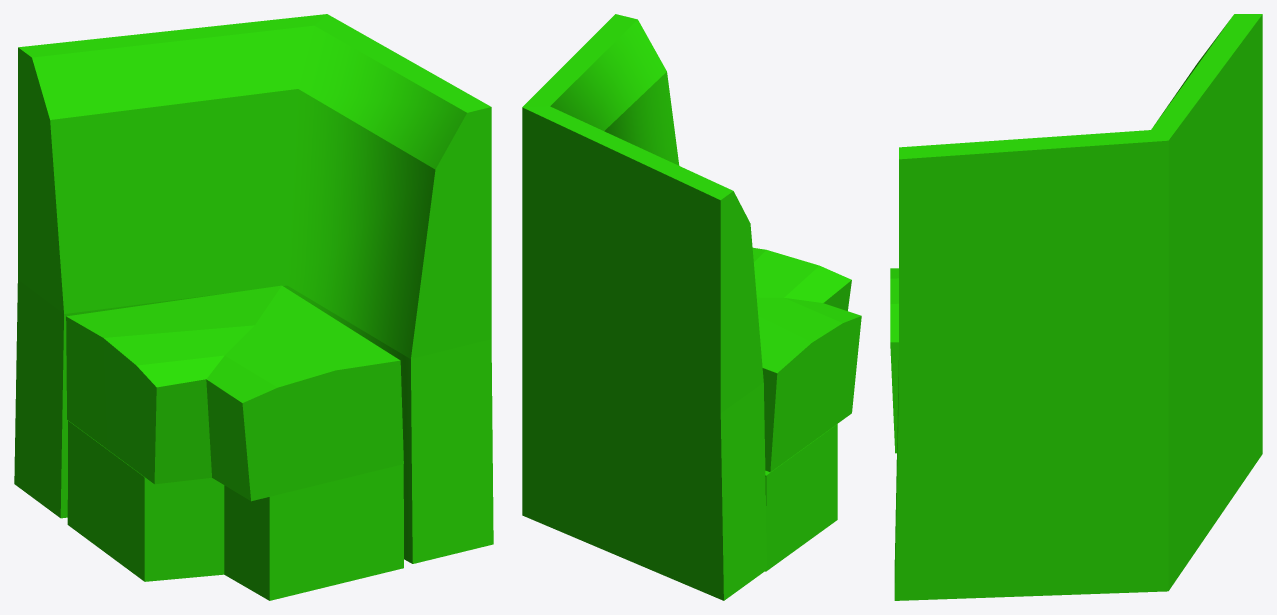
File: Restaurant_Sofa_01_Corner_Lod1.fbx
3 renders of one model, left to right at view 1: azimuth 30°, elevation 25°; view 2: azimuth 150°, elevation 25°; view 3: azimuth 270°, elevation 25°, orthographic. The views are drawn at different scales.
Parts seen in each view (by area): view 1: Restaurant_Sofa_01_Corner_Lod1; view 2: Restaurant_Sofa_01_Corner_Lod1; view 3: Restaurant_Sofa_01_Corner_Lod1.
Part boxes in pixels (bbox=[...]): Restaurant_Sofa_01_Corner_Lod1: bbox=[14, 14, 493, 600]; Restaurant_Sofa_01_Corner_Lod1: bbox=[522, 14, 861, 600]; Restaurant_Sofa_01_Corner_Lod1: bbox=[890, 14, 1262, 600].
Size of the model in its own units: 62.73 by 88.99 by 66.24.
